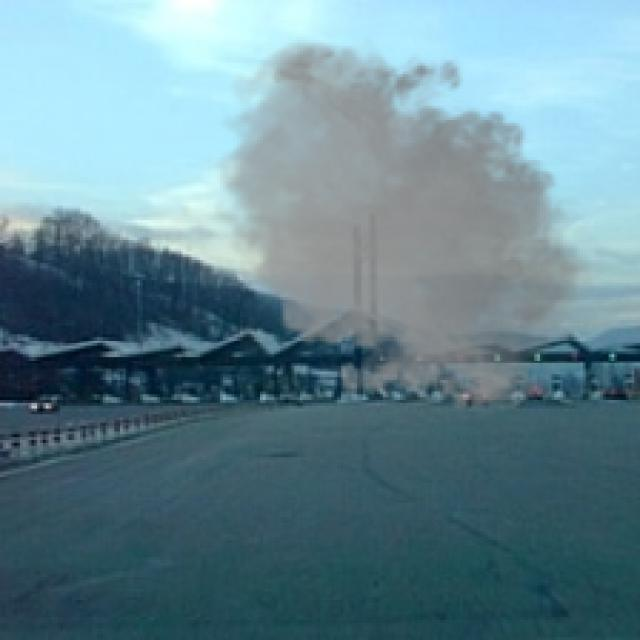smoke: (206, 34, 608, 423)
